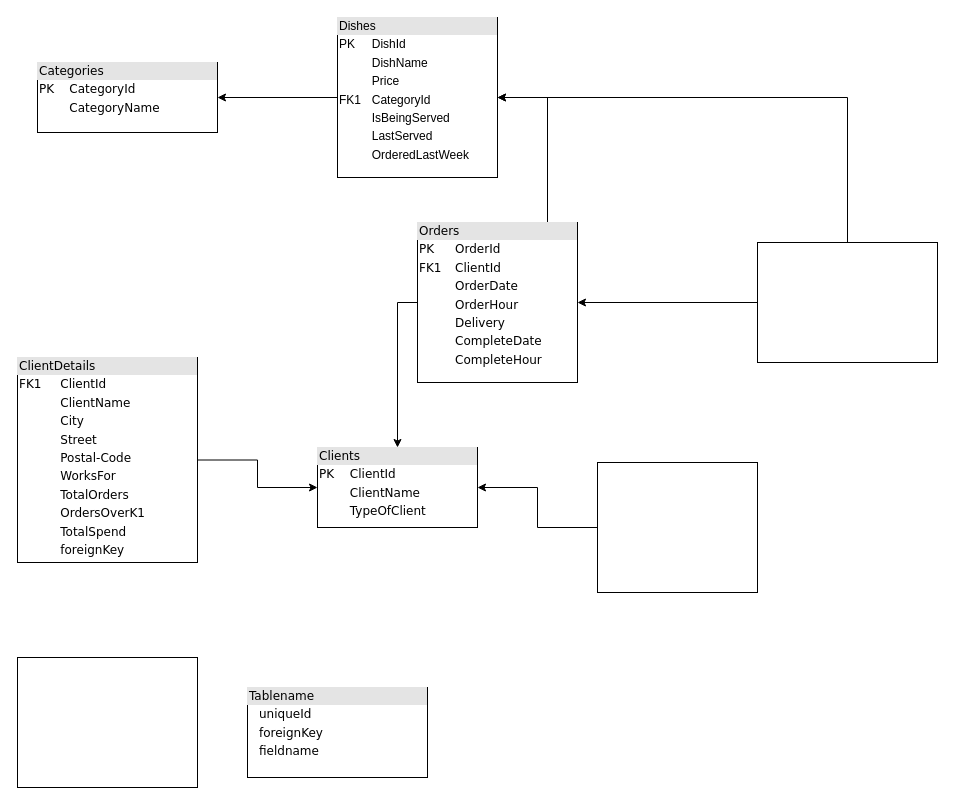
Image size: 955x805. Some labels were removed from this diagram. The shapes that lost their labels are listed below. From the top down, each one's centre as x and y in pixels, then its label:
[847,302]: OrderDetails FK1 OrderId FK2 DishId DishName Count TotalPrice
[677,527]: Reservations PK ReservationId FK1 ClientId ResCount ResDate ResHour
[107,722]: Tablename uniqueId foreignKey fieldname fieldname fieldname fieldname
